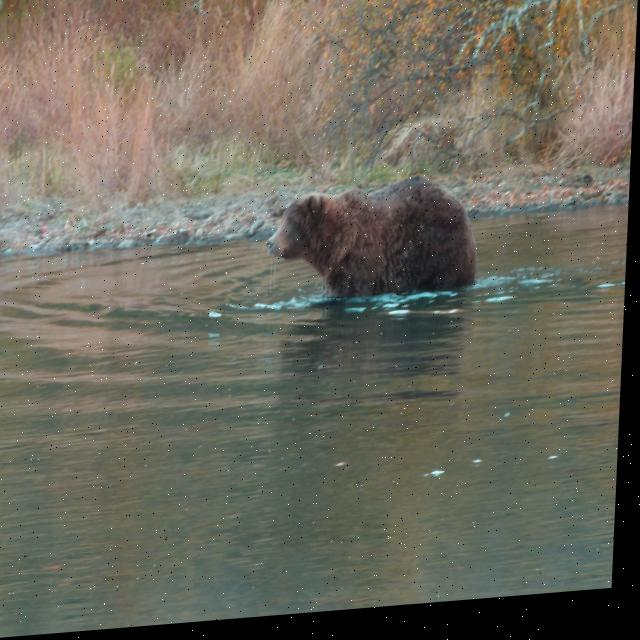bear face: (267, 188, 482, 313)
